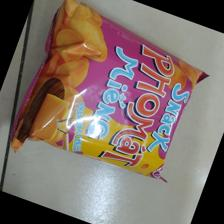Oishi_phomat: (7, 1, 211, 187)
